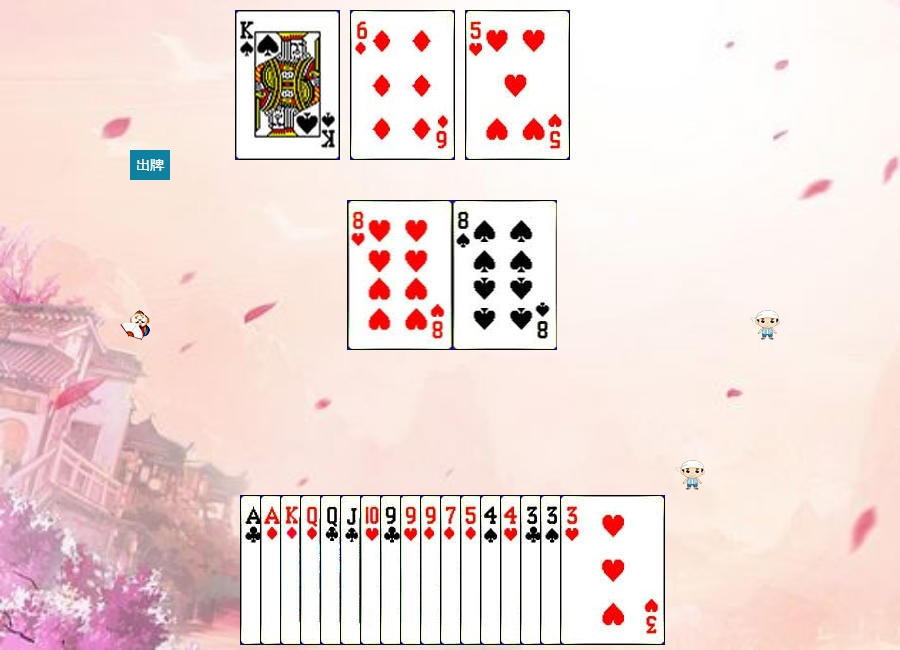10~3: (360, 495, 465, 645)
11~2: (340, 495, 445, 645)
12~1: (300, 495, 405, 645)
12~2: (320, 495, 425, 645)
13~1: (280, 495, 385, 645)
13~4: (235, 10, 340, 160)
14~1: (260, 495, 365, 645)
14~2: (240, 495, 345, 645)
3~2: (520, 495, 625, 645)
3~3: (560, 495, 665, 645)
3~4: (540, 495, 645, 645)
4~3: (500, 495, 605, 645)
4~4: (480, 495, 585, 645)
5~1: (460, 495, 565, 645)
5~3: (465, 10, 570, 160)
6~1: (350, 10, 455, 160)
7~1: (440, 495, 545, 645)
8~3: (348, 200, 453, 350)
8~4: (453, 200, 558, 350)
9~1: (420, 495, 525, 645)
9~2: (380, 495, 485, 645)
9~3: (400, 495, 505, 645)
